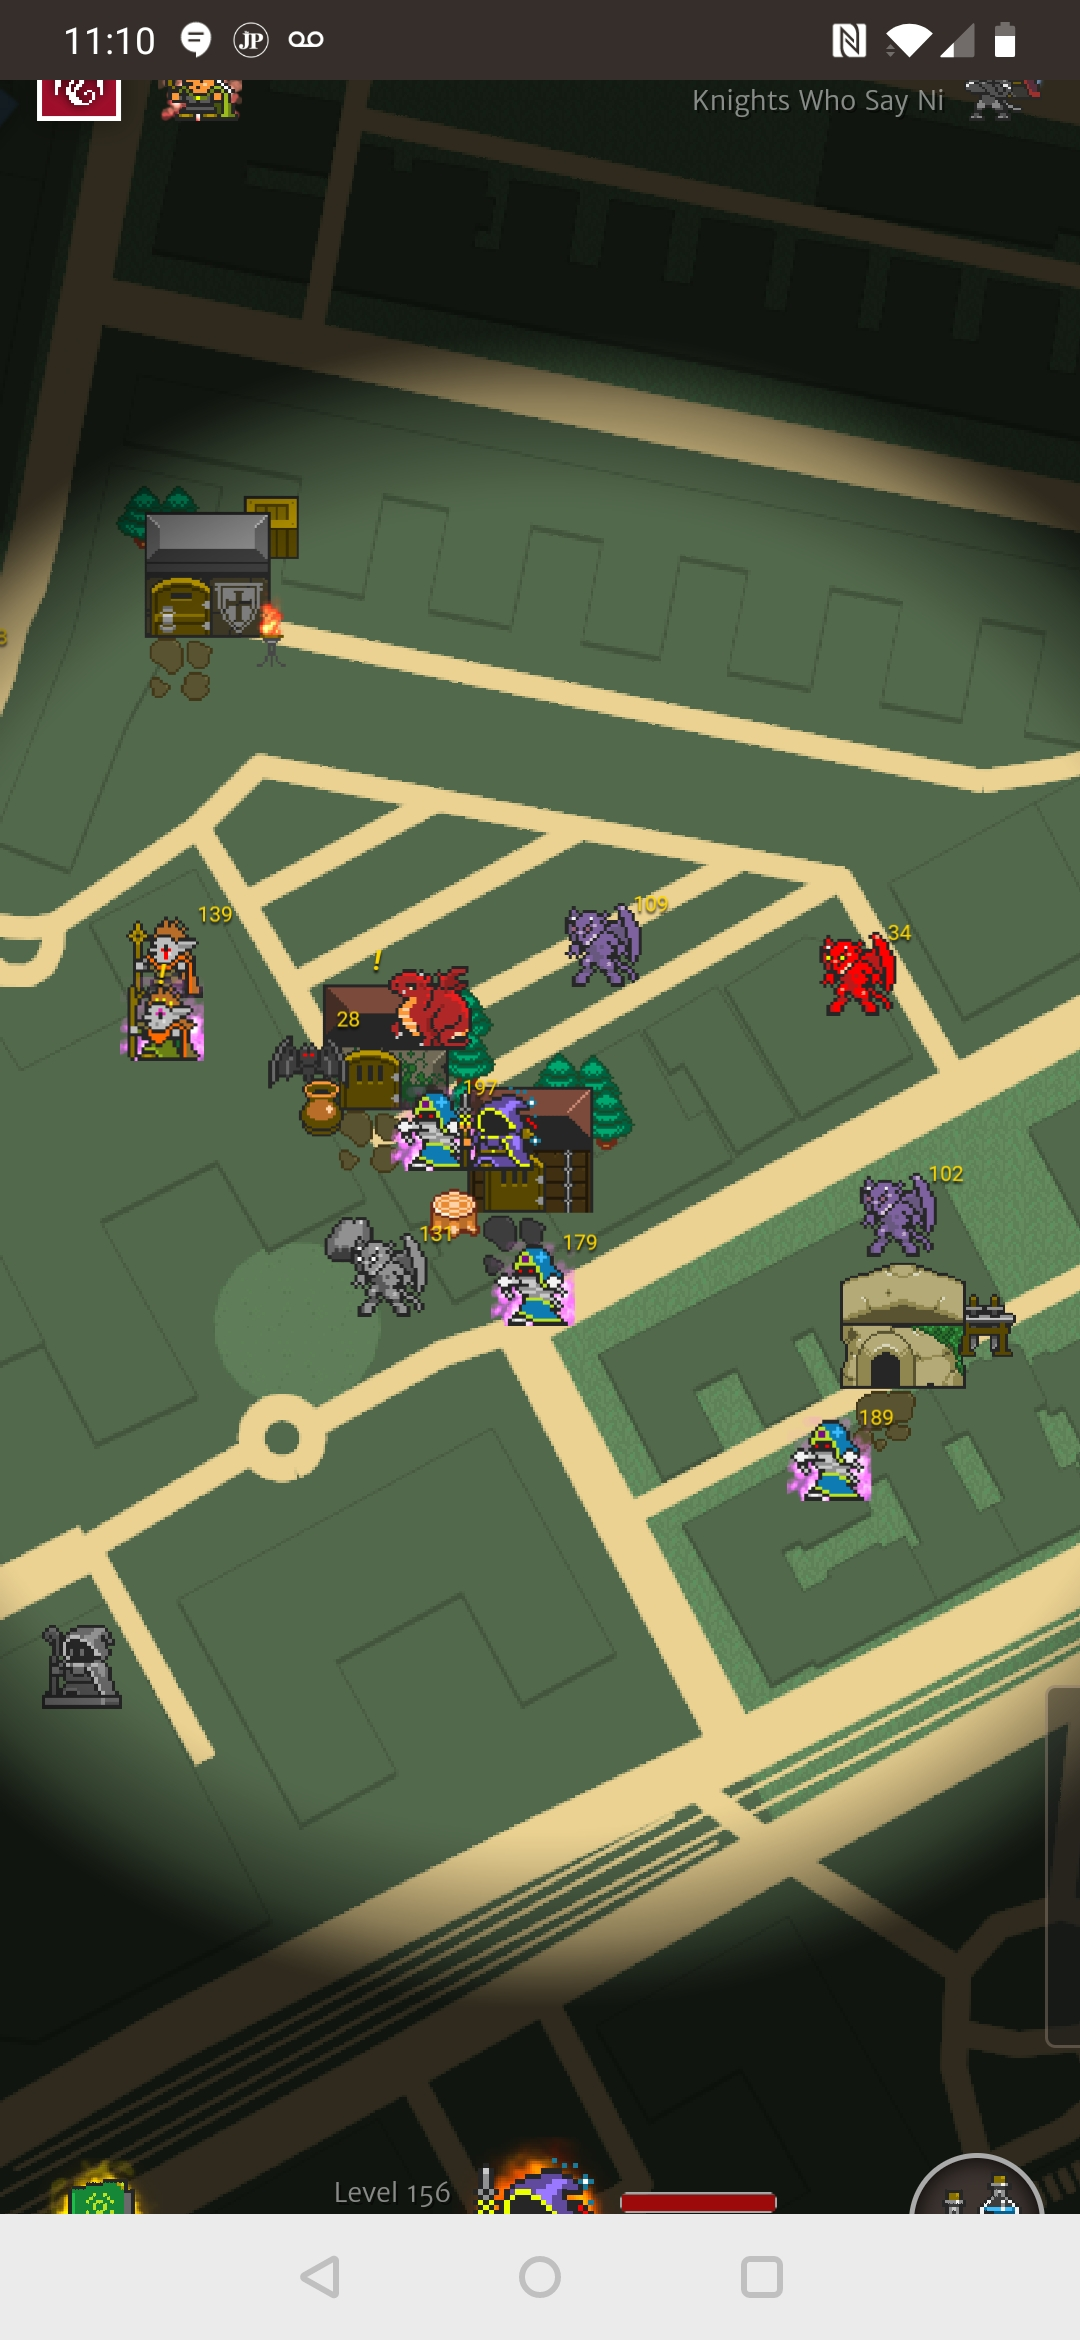monster: (806, 927, 908, 1030), (488, 1240, 591, 1343), (782, 1413, 882, 1513), (553, 892, 653, 992), (858, 1169, 946, 1257), (122, 989, 207, 1074), (339, 1237, 422, 1321), (128, 913, 207, 992)
